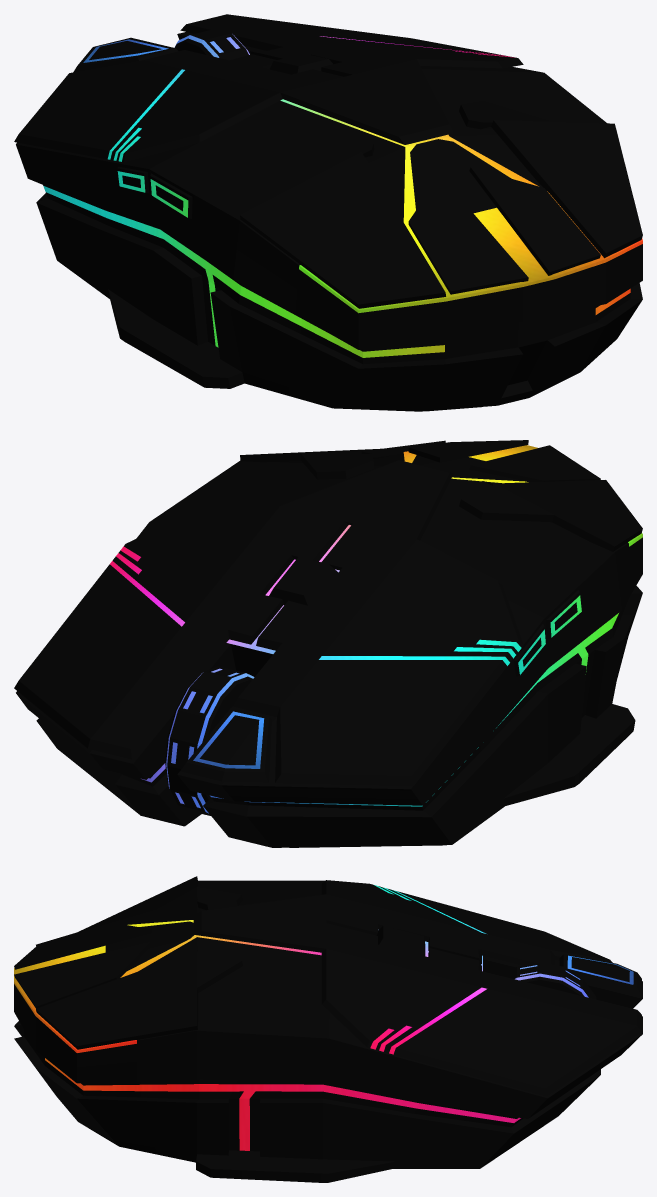
The model's file is mouse.glb.
The picture shows the model from 3 angles, top to bottom: view 1: azimuth 30°, elevation 25°; view 2: azimuth 150°, elevation 25°; view 3: azimuth 270°, elevation 25°; orthographic projection. The views are drawn at different scales.
Visible parts, largest first — view 1: Cube.001_3; view 2: Cube.001_3; view 3: Cube.001_3.
Part boxes in pixels (x1,y1,x2,y2): Cube.001_3: (14,14,642,411); Cube.001_3: (14,440,642,847); Cube.001_3: (14,876,642,1182).
Bounding box in the file's own units: 0.0818 × 0.0362 × 0.1196.
3 materials, 1 textured.
